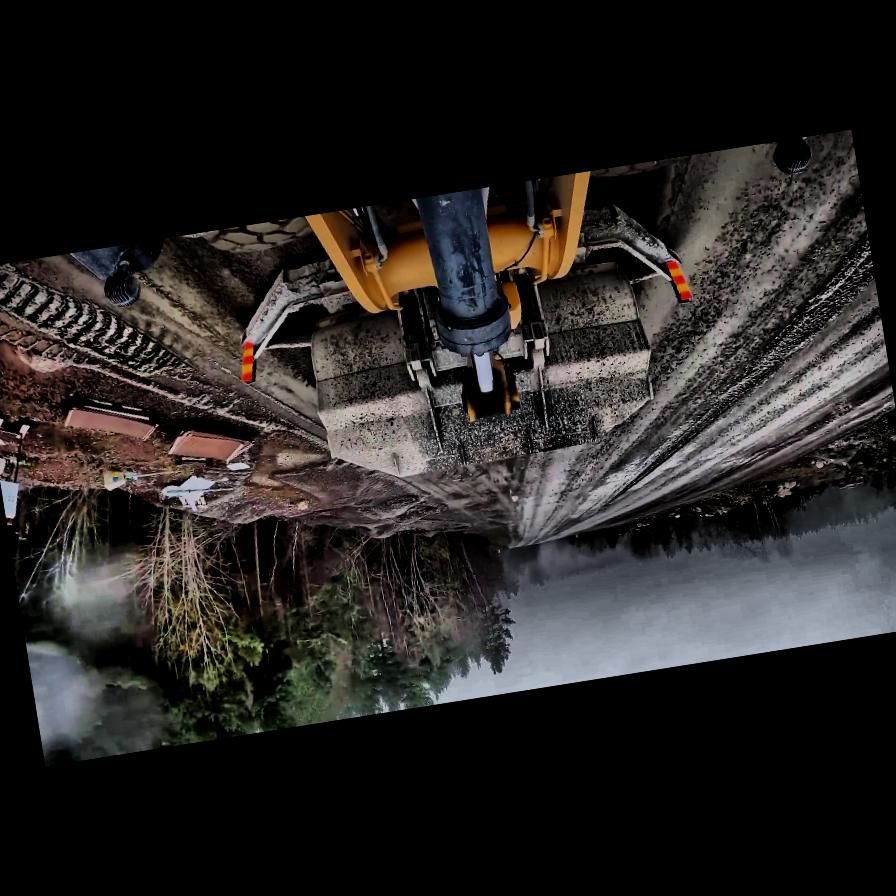anchor: (456, 360, 518, 424)
